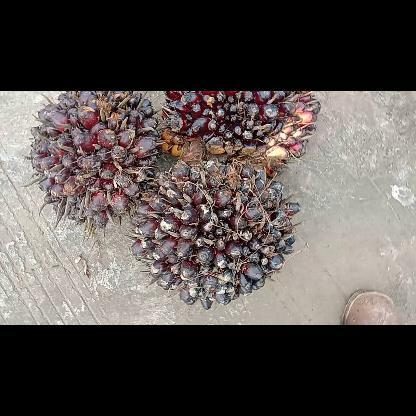TBS mentah: (127, 160, 303, 312), (28, 91, 160, 230), (155, 91, 322, 181)
